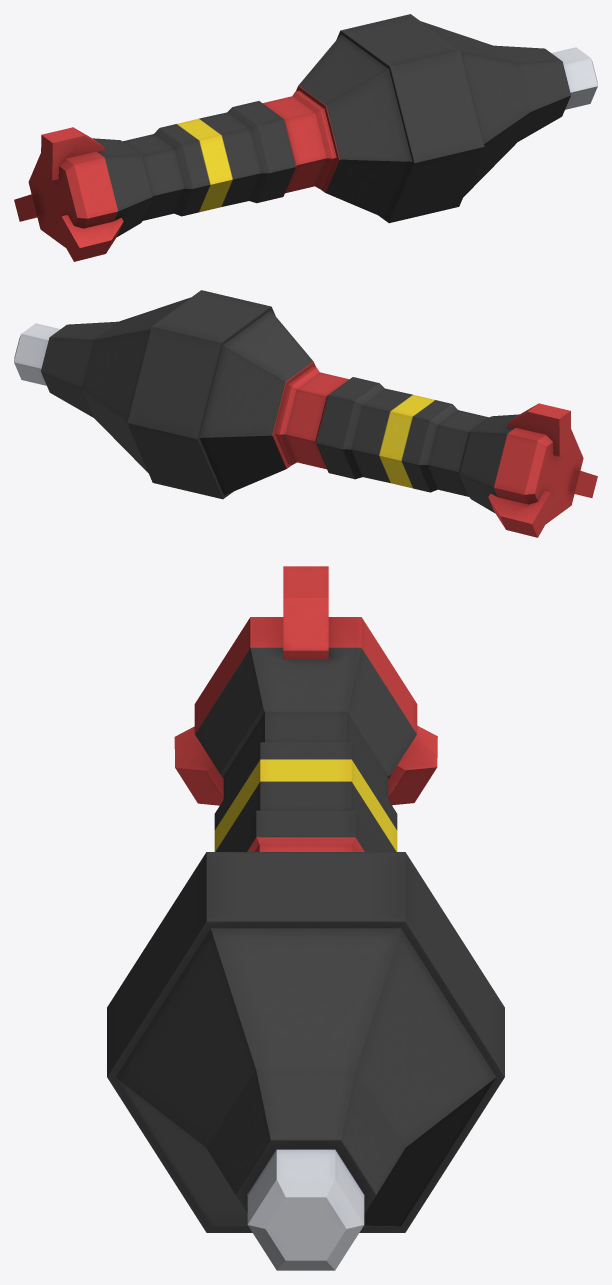
Rendered from ImposterEscape_bullet.fbx.
The picture shows the model from 3 angles, top to bottom: view 1: azimuth 30°, elevation 25°; view 2: azimuth 150°, elevation 25°; view 3: azimuth 270°, elevation 25°; orthographic projection. The views are drawn at different scales.
Parts seen in each view (by area): view 1: ImposterEscape_bullet_geo; view 2: ImposterEscape_bullet_geo; view 3: ImposterEscape_bullet_geo.
Part boxes in pixels (x1,y1,x2,y2): ImposterEscape_bullet_geo: [14, 14, 597, 261]; ImposterEscape_bullet_geo: [14, 290, 597, 537]; ImposterEscape_bullet_geo: [107, 566, 504, 1270].
Bounding box in the file's own units: 11.65 × 3.23 × 3.71.
1 material, 1 textured.
